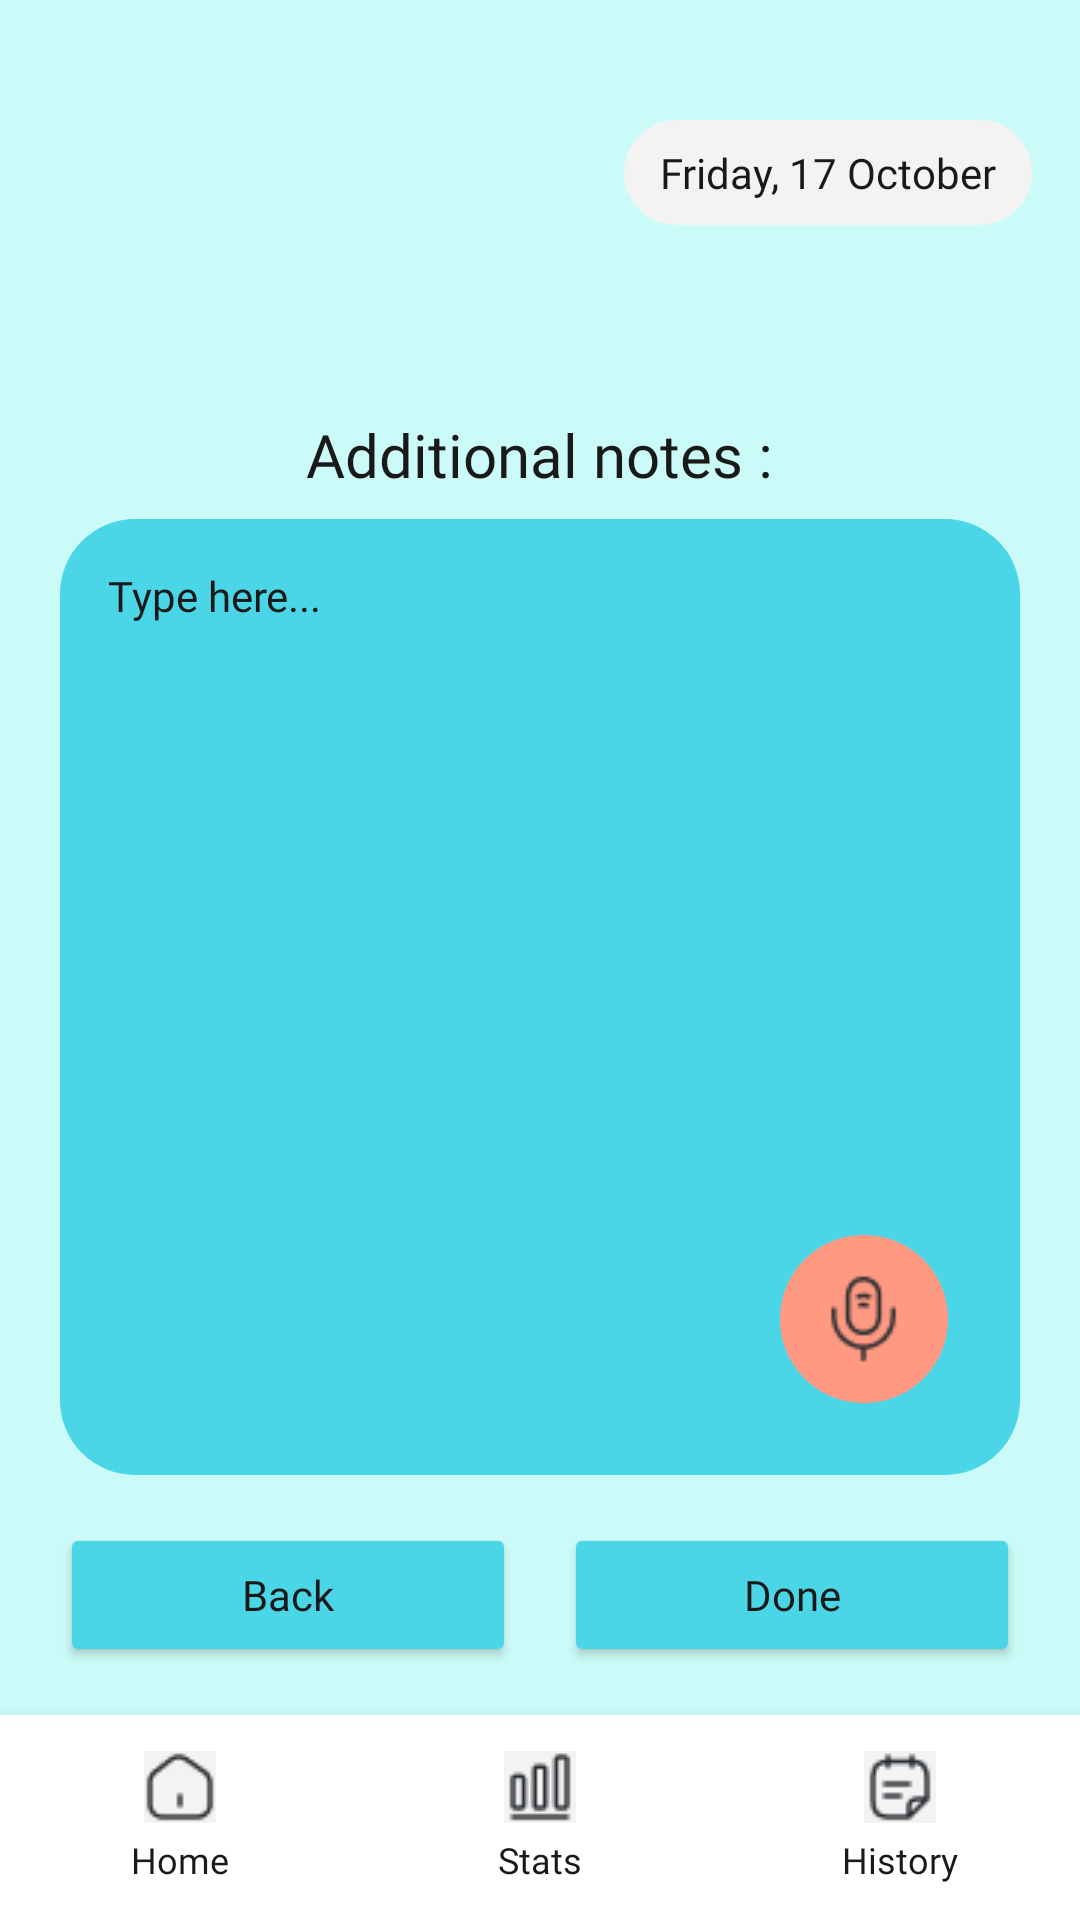

Screen size 1080w x 1920h. Icon name, then its center in pixels as (x,y):
Microphone: (864,1319)
